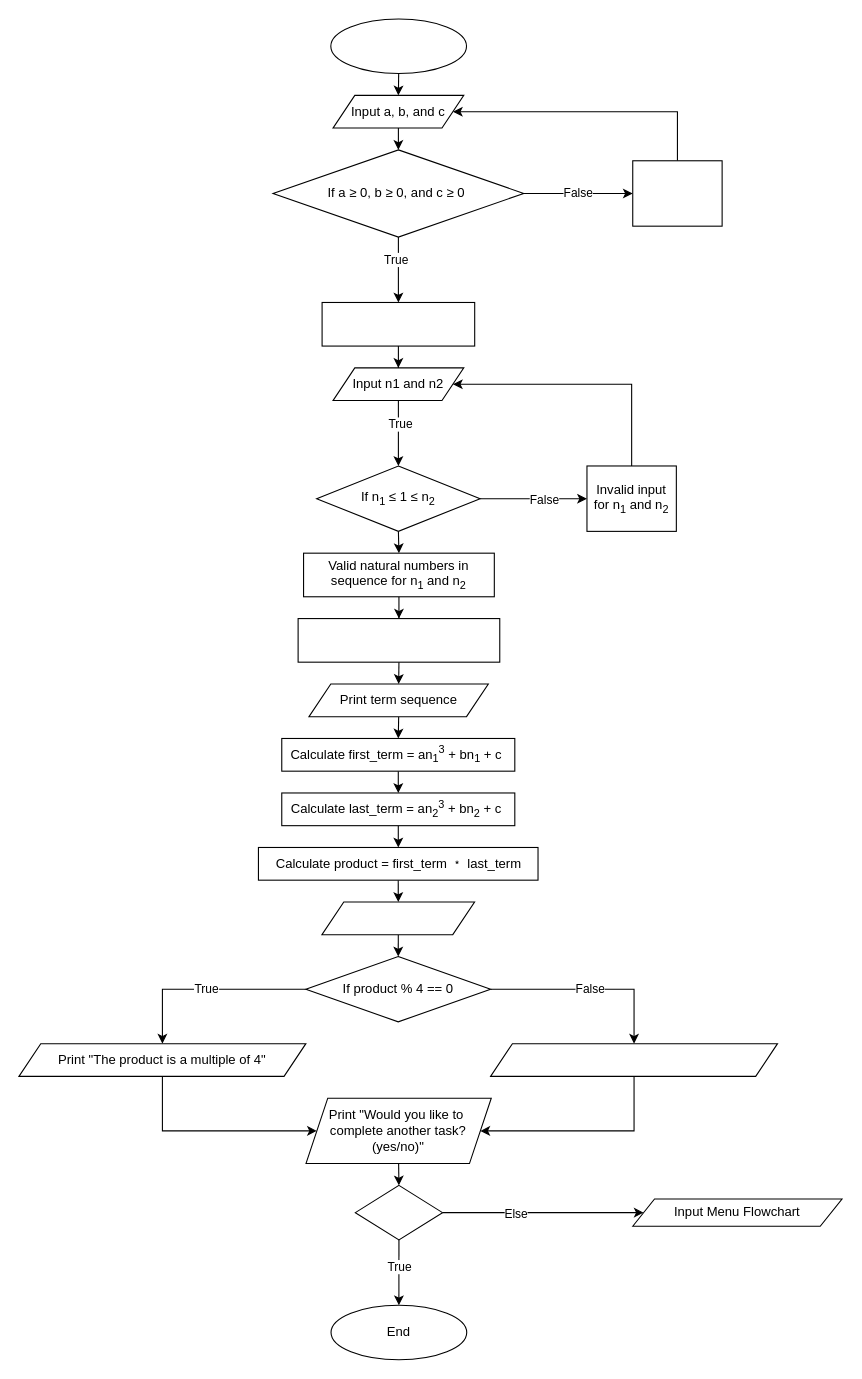
This 862x1379 diagram has some shape labels left out. Here are the shapes that lost their labels. From the top down, the box of each, then its label:
(330, 18, 467, 74): Start
(632, 160, 722, 226): Invalid input for a, b, and c
(321, 301, 475, 346): Valid non-negative integers for a, b, and c
(297, 617, 500, 662): Calculate term = an 3 + bn + c for n in range [n 1 , n 2 ]
(321, 901, 475, 935): Print product
(490, 1043, 777, 1076): Print "The product is not a multiple of 4"
(354, 1184, 443, 1240): If yes
